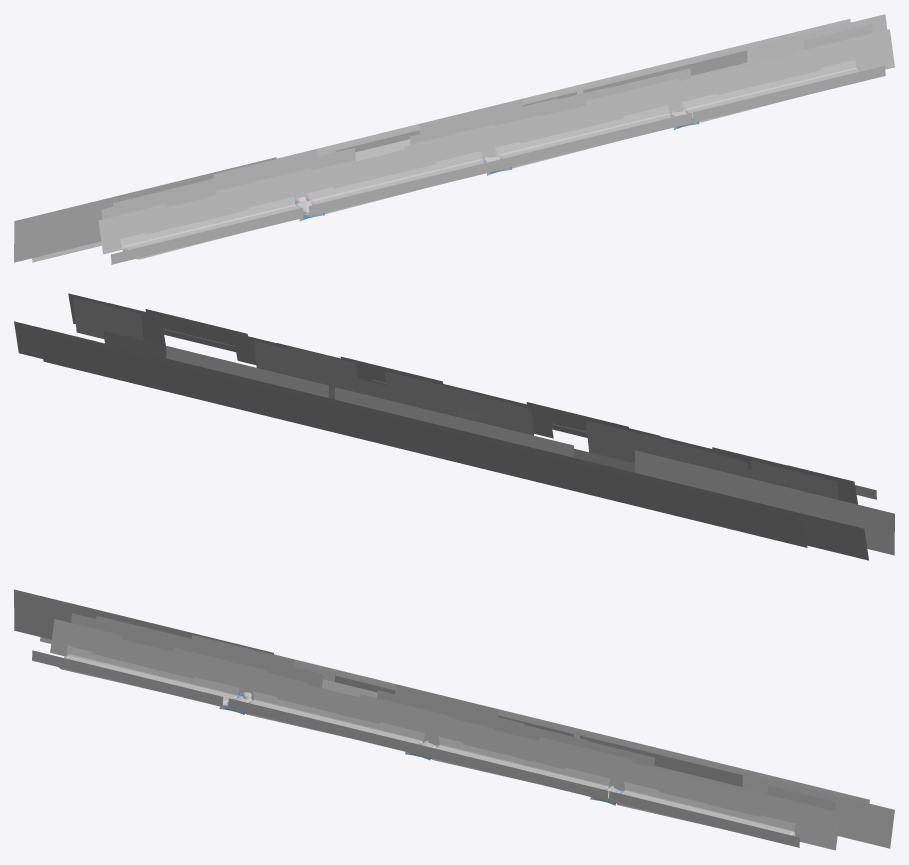
Rendered from BG_Yeongsil_divide00.FBX.
The picture shows the model from 3 angles, top to bottom: view 1: azimuth 30°, elevation 25°; view 2: azimuth 150°, elevation 25°; view 3: azimuth 330°, elevation 25°; orthographic projection.
Parts seen in each view (by area): view 1: far02_01, middle02_05, middle04_01, middle02_04, middle03_01, middle02_01, far03_07, ground_07, ground_01, ground_05, ground_03, middle01_04 (+40 smaller); view 2: sky_cloud_03, sky_cloud_01, sky_cloud_05, sky_cloud_06, sky_cloud_02, sky_cloud_04, middle04_01, far02_01, far03_01, far02_02, middle05_02, far02_03 (+27 smaller); view 3: far03_07, middle02_05, far02_01, middle04_01, middle03_01, middle02_04, middle02_01, ground_07, ground_01, ground_05, ground_03, middle03_03 (+40 smaller).
Boxes of the visible parts, x1,y1,x2,y2 form: far02_01: (14,200,101,262); middle02_05: (796,29,894,71); middle04_01: (101,24,872,219); middle02_04: (655,70,725,112); middle03_01: (216,168,310,207); middle02_01: (98,204,166,254); far03_07: (763,14,887,57); ground_07: (681,83,779,122); ground_01: (120,220,218,259); ground_05: (494,128,592,168); ground_03: (307,174,405,213); middle01_04: (381,143,435,176); sky_cloud_03: (421,426,552,485); sky_cloud_01: (675,488,807,547); sky_cloud_05: (166,364,298,423); sky_cloud_06: (39,333,170,392); sky_cloud_02: (548,457,679,516); sky_cloud_04: (293,395,425,454); middle04_01: (73,297,838,499); far02_01: (808,492,894,555); far03_01: (743,499,868,560); far02_02: (721,471,808,514); middle05_02: (410,379,515,431); far02_03: (635,450,721,493); far03_07: (773,780,894,848); middle02_05: (747,790,840,850); far02_01: (14,589,100,639); middle04_01: (71,613,835,810); middle03_01: (173,648,266,692); middle02_04: (604,756,675,790); middle02_01: (50,619,121,656); ground_07: (616,781,709,822); ground_01: (58,646,153,687); ground_05: (430,736,524,777); ground_03: (245,691,338,732); middle03_03: (539,737,632,776).
Size of the model in its own units: 18749 by 1168 by 1965.
